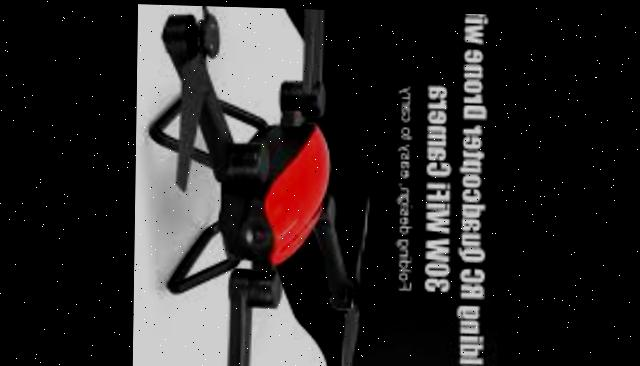drone: (134, 3, 380, 366)
